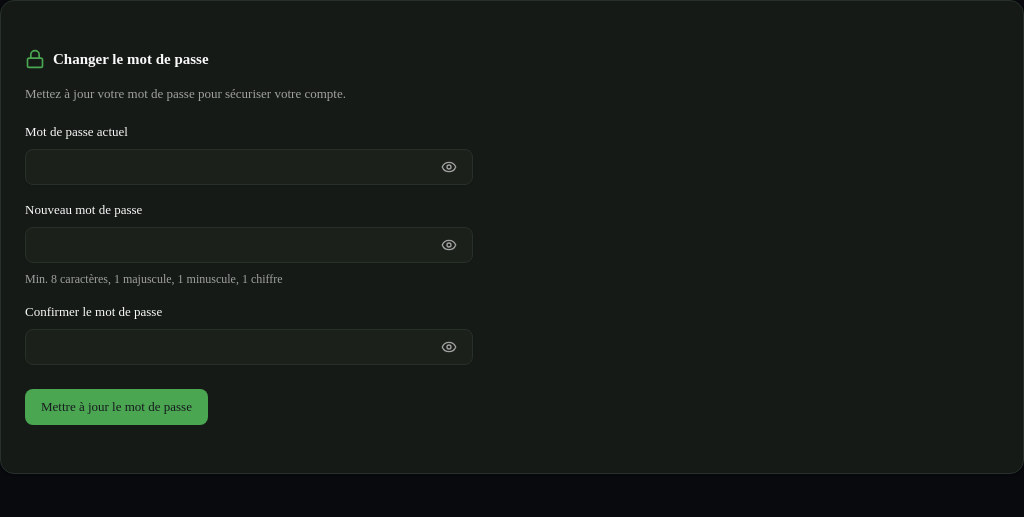
PasswordChangeForm › lands a wrong current password under that field, not in a toast
The width and height of the screenshot is (1024, 517).
Type "ancien-mot-de-passe" into the password field labelled "Mot de passe actuel" at (249, 167), box top-left (25, 149), bottom-right (473, 185)
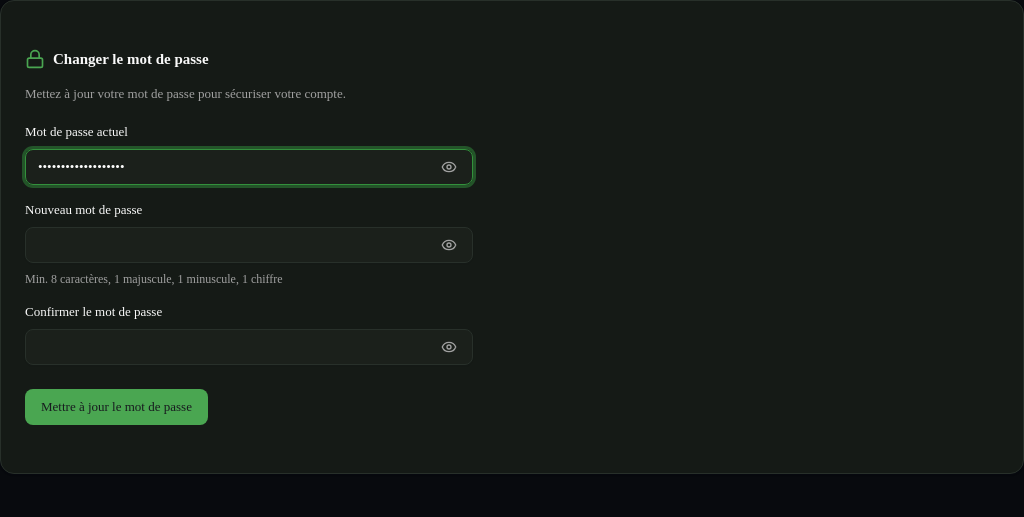
Type "Nouveau123" into the password field labelled "Nouveau mot de passe" at (249, 245), box top-left (25, 227), bottom-right (473, 263)
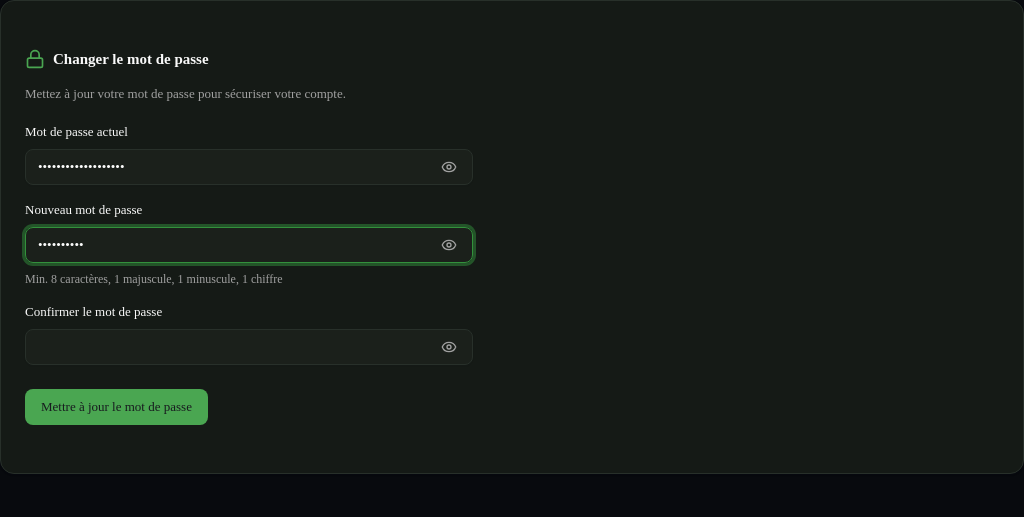
Type "Nouveau123" into the password field labelled "Confirmer le mot de passe" at (249, 347), box top-left (25, 329), bottom-right (473, 365)
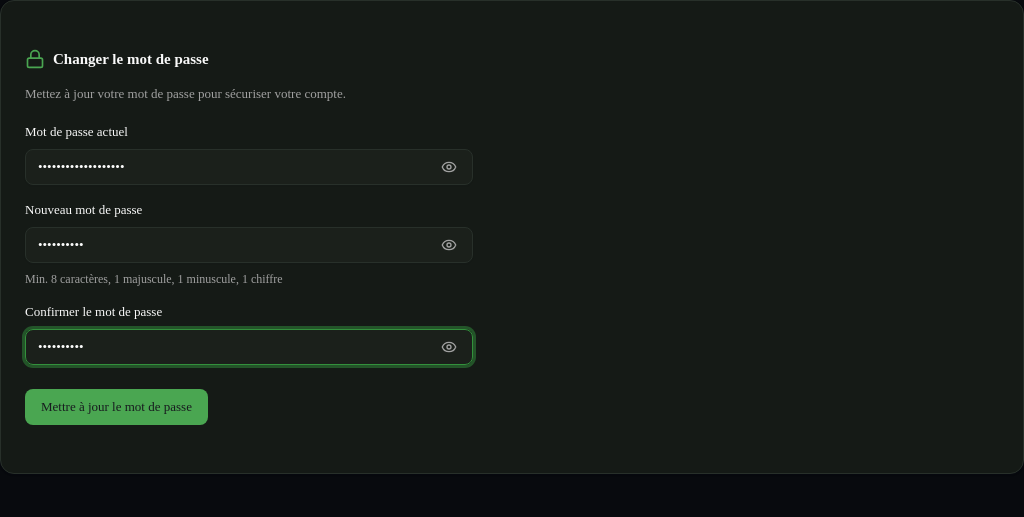
Click the button "Mettre à jour le mot de passe" at (116, 407), box top-left (25, 389), bottom-right (208, 425)
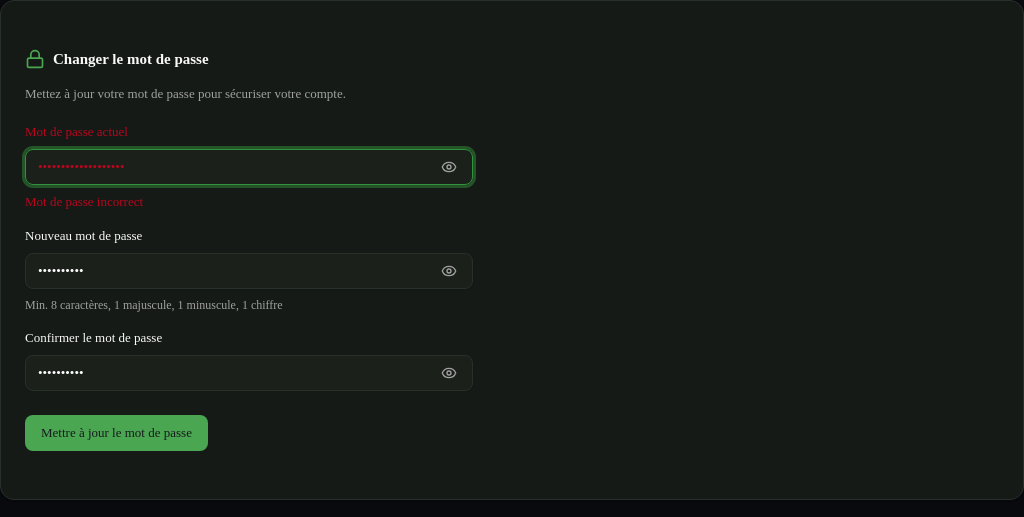
Check: the text "Mot de passe incorrect" is shown, box top-left (25, 194), bottom-right (143, 209)
